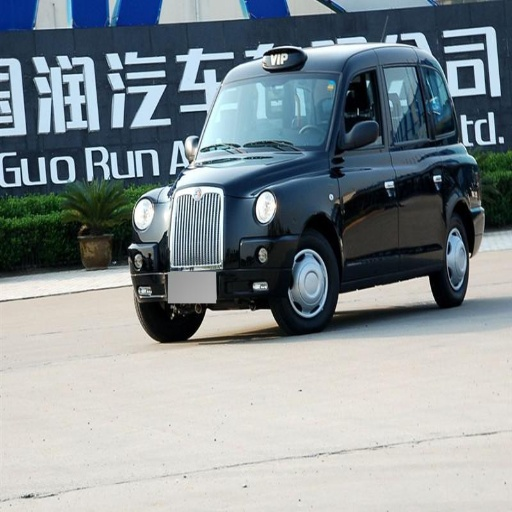front_bumper: (133, 234, 227, 301), (232, 241, 295, 304)
front_glass: (201, 71, 338, 157)
front_left_door: (336, 64, 401, 275)
